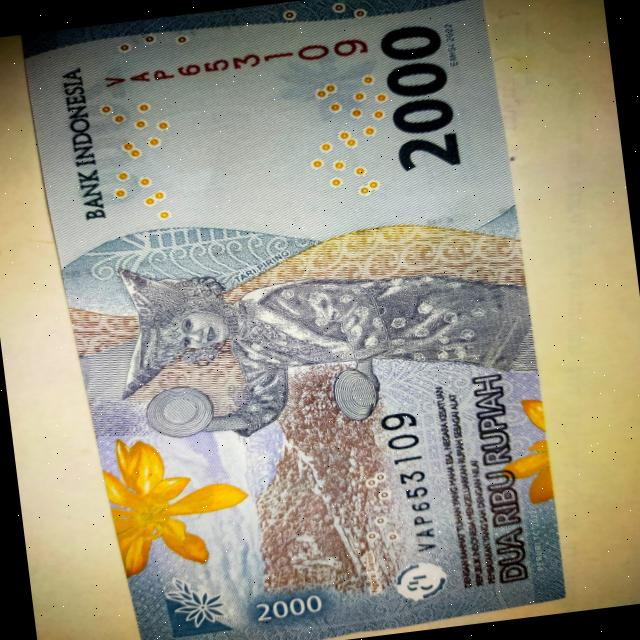2K: (5, 0, 584, 640)
